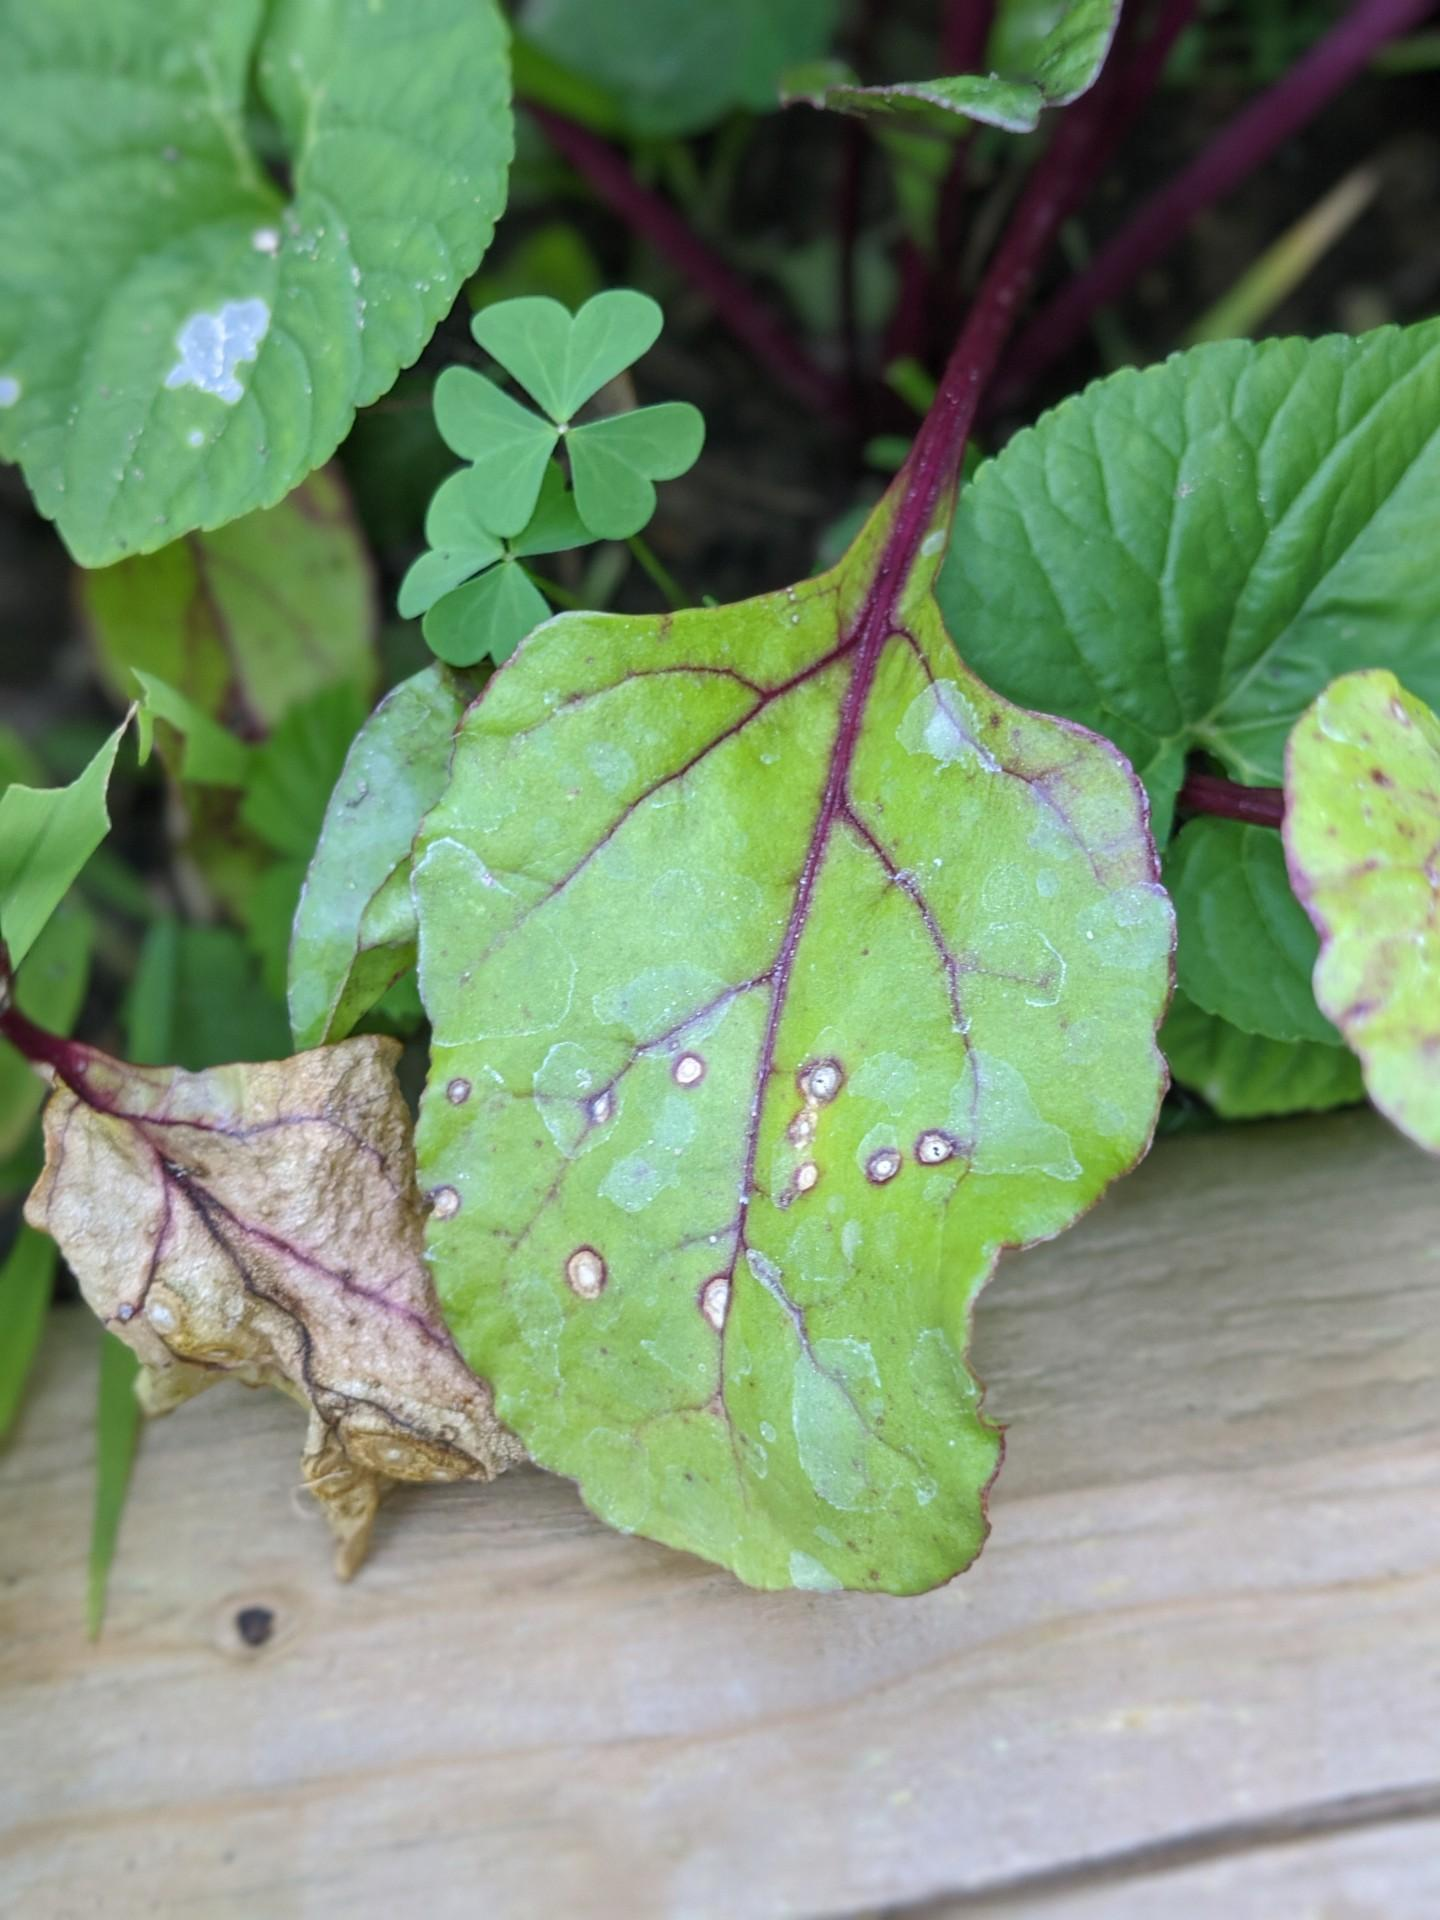black-spot: (505, 890, 950, 1436)
